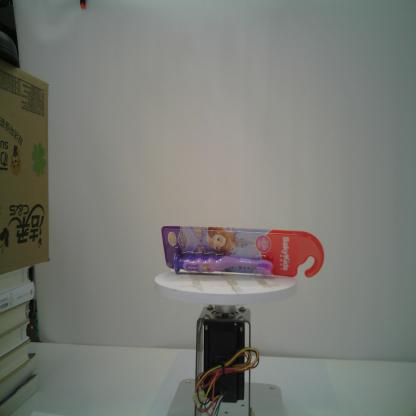Personal Hygiene: (160, 224, 325, 280)
